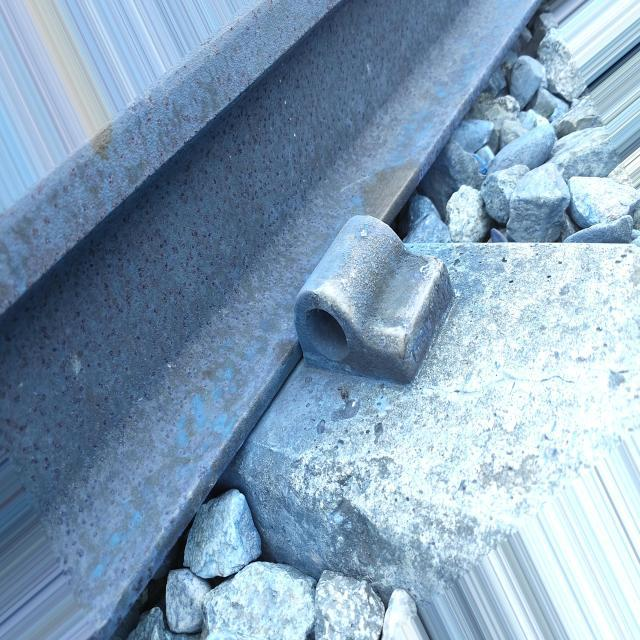Missing Fastener: (282, 200, 473, 402)
